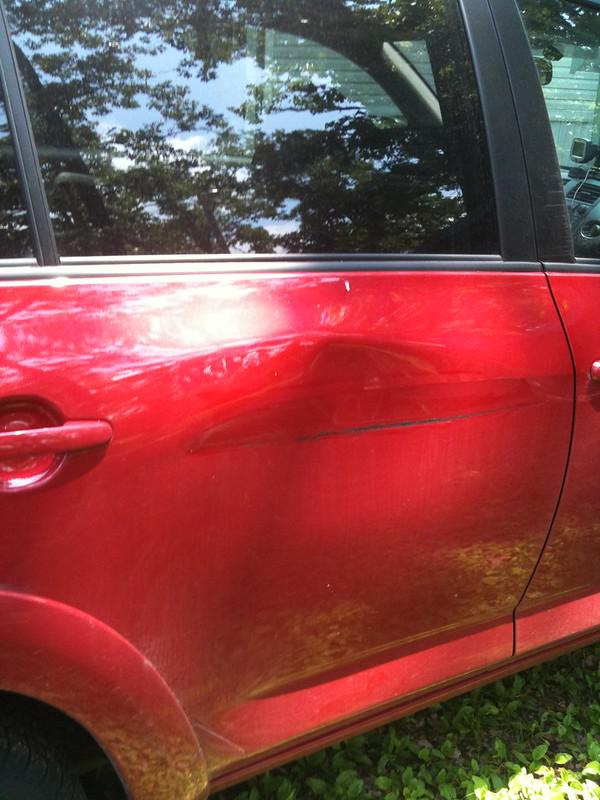doorouter-dent: (51, 294, 478, 632)
